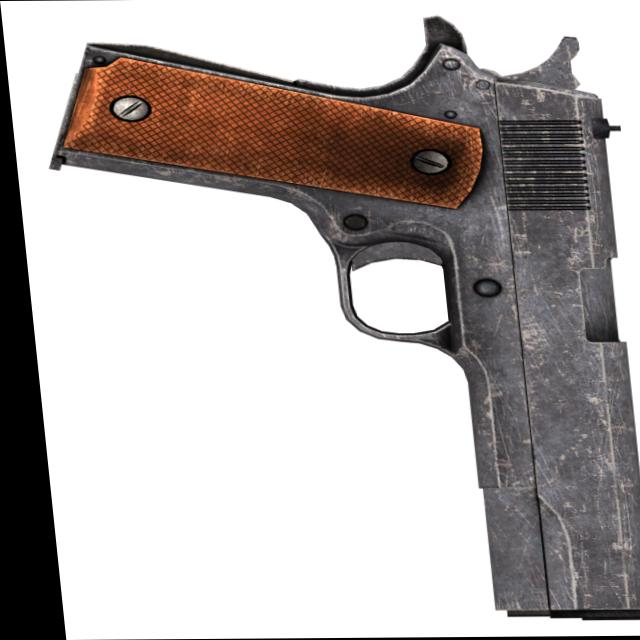handgun: (29, 17, 640, 623)
